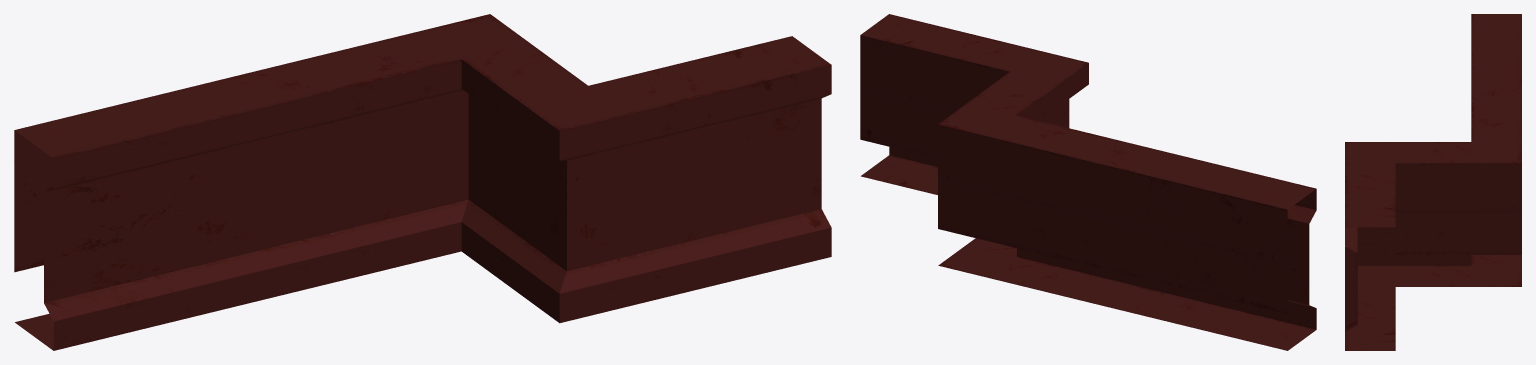
File: Cornice_Small_Metal_90Angle_R.gltf
The picture shows the model from 3 angles, left to right: view 1: azimuth 30°, elevation 25°; view 2: azimuth 150°, elevation 25°; view 3: azimuth 270°, elevation 25°; orthographic projection. The views are drawn at different scales.
Visible parts, largest first — view 1: Cornice_Small_Metal_90Angle_R; view 2: Cornice_Small_Metal_90Angle_R; view 3: Cornice_Small_Metal_90Angle_R.
Part boxes in pixels (x1,y1,x2,y2): Cornice_Small_Metal_90Angle_R: (14, 14, 831, 350); Cornice_Small_Metal_90Angle_R: (860, 14, 1316, 350); Cornice_Small_Metal_90Angle_R: (1345, 14, 1521, 350).
Size of the model in its own units: 2 by 0.5403 by 0.7.
1 material, 1 textured.
